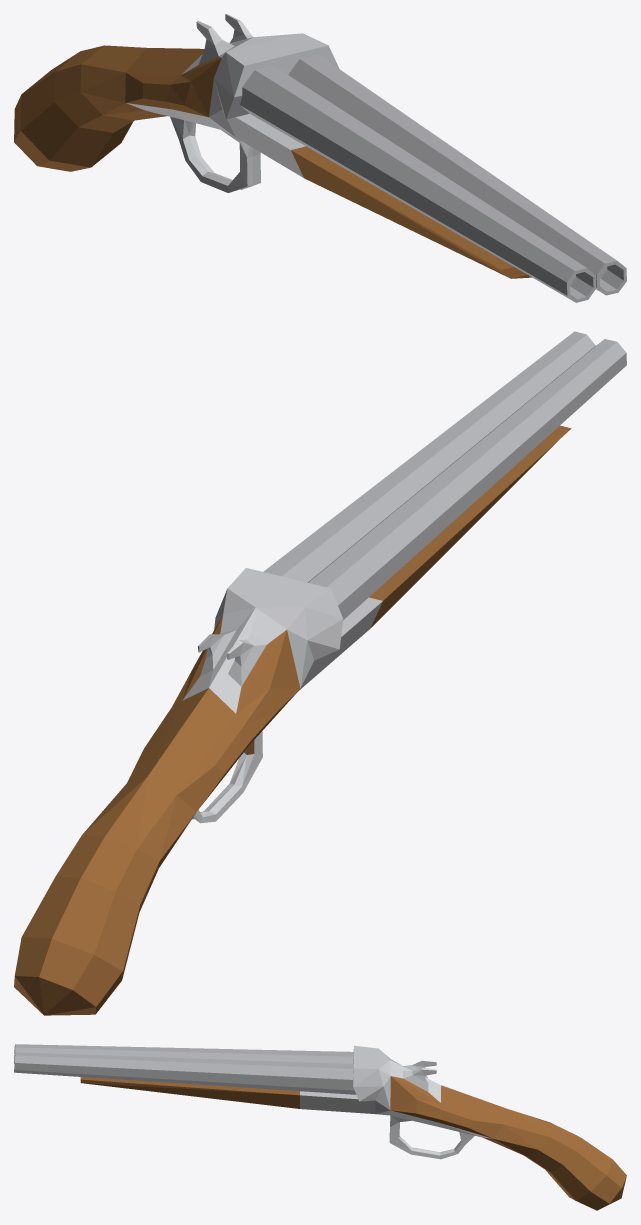
File: GunTwo.obj
3 views of the same model, one above another, from view 1: azimuth 30°, elevation 25°; view 2: azimuth 150°, elevation 25°; view 3: azimuth 270°, elevation 25° (orthographic). The views are drawn at different scales.
Visible parts, largest first — view 1: Cylinder.001, Cylinder; view 2: Cylinder, Cylinder.001; view 3: Cylinder, Cylinder.001.
Boxes of the visible parts, x1=… form: Cylinder.001: x1=240, y1=54, x2=626, y2=302; Cylinder: x1=14, y1=14, x2=339, y2=192; Cylinder: x1=14, y1=568, x2=382, y2=1015; Cylinder.001: x1=263, y1=331, x2=626, y2=628; Cylinder: x1=299, y1=1045, x2=626, y2=1210; Cylinder.001: x1=14, y1=1044, x2=356, y2=1108.
Bounding box in the file's own units: 0.0554 × 0.1374 × 0.4804.
Materials: 1 (1 with a texture image).
